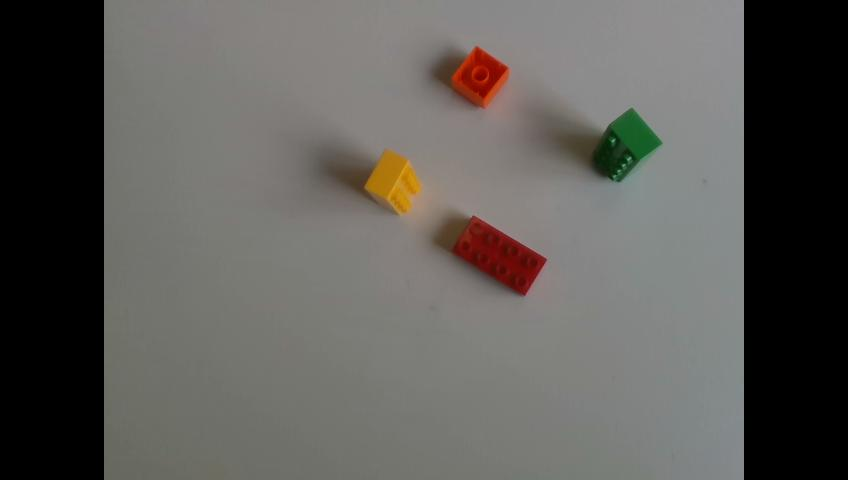2x2_orange: (451, 45, 508, 107)
4x2_green: (596, 107, 664, 180)
4x2_red: (452, 215, 544, 293)
4x2_yellow: (364, 147, 420, 212)
